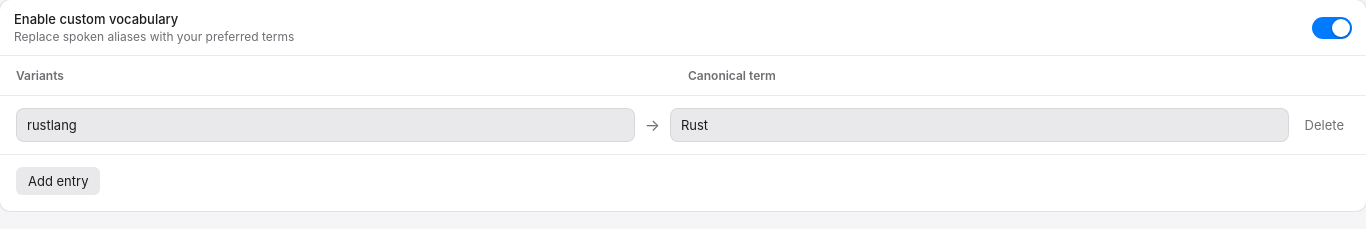
it: DictionarySection › deletes an entry by persisting the remaining document
This screenshot has width=1366, height=229.
Click the button with aria-label "Delete Rust" at [1324, 125], box [1299,116,1350,134]
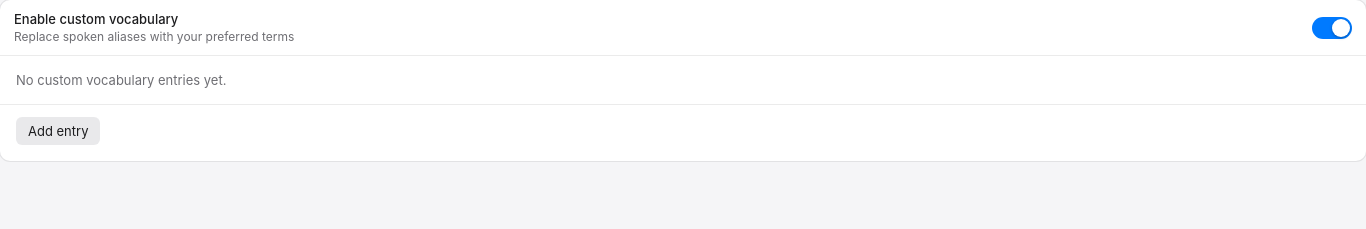
Now the field labelled "Rust" is gone
